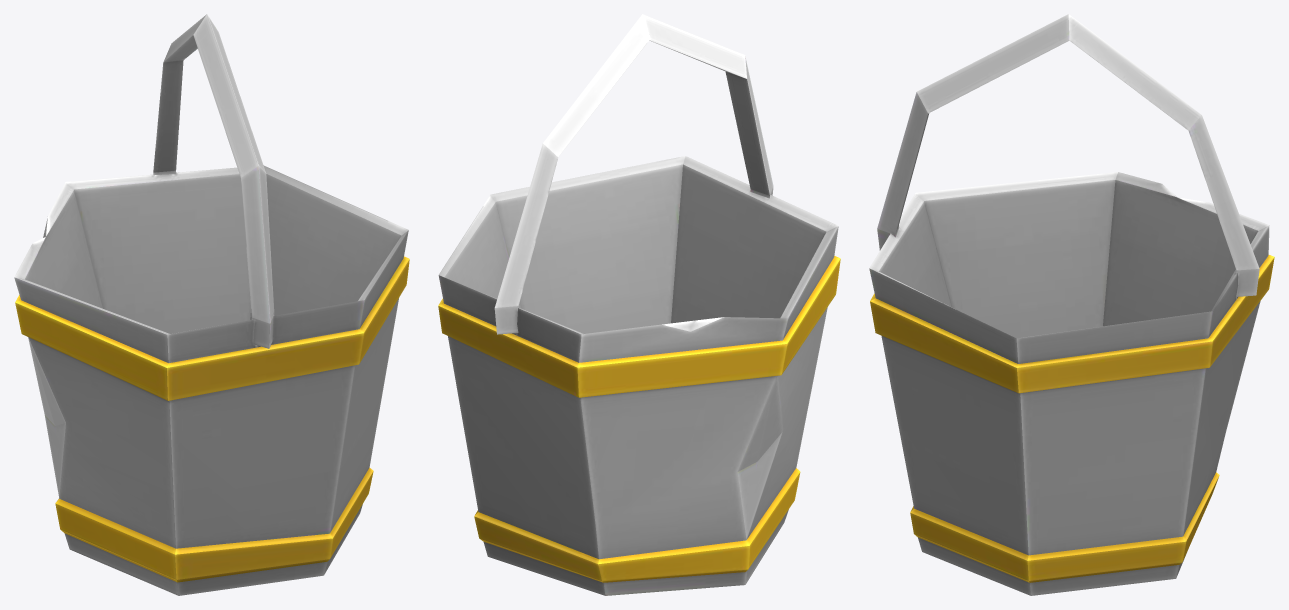
Rendered from obj_bucket01_base.gltf.
3 renders of one model, left to right at view 1: azimuth 30°, elevation 25°; view 2: azimuth 150°, elevation 25°; view 3: azimuth 270°, elevation 25°, orthographic.
Parts seen in each view (by area): view 1: obj_bucket01_base; view 2: obj_bucket01_base; view 3: obj_bucket01_base.
Part boxes in pixels (left/top/right/bottom): obj_bucket01_base: left=14, top=14, right=409, bottom=595; obj_bucket01_base: left=438, top=14, right=840, bottom=595; obj_bucket01_base: left=869, top=14, right=1274, bottom=595.
Size of what is drawn, in the model's own units: 0.4655 by 0.6718 by 0.4755.
1 material, 1 textured.
